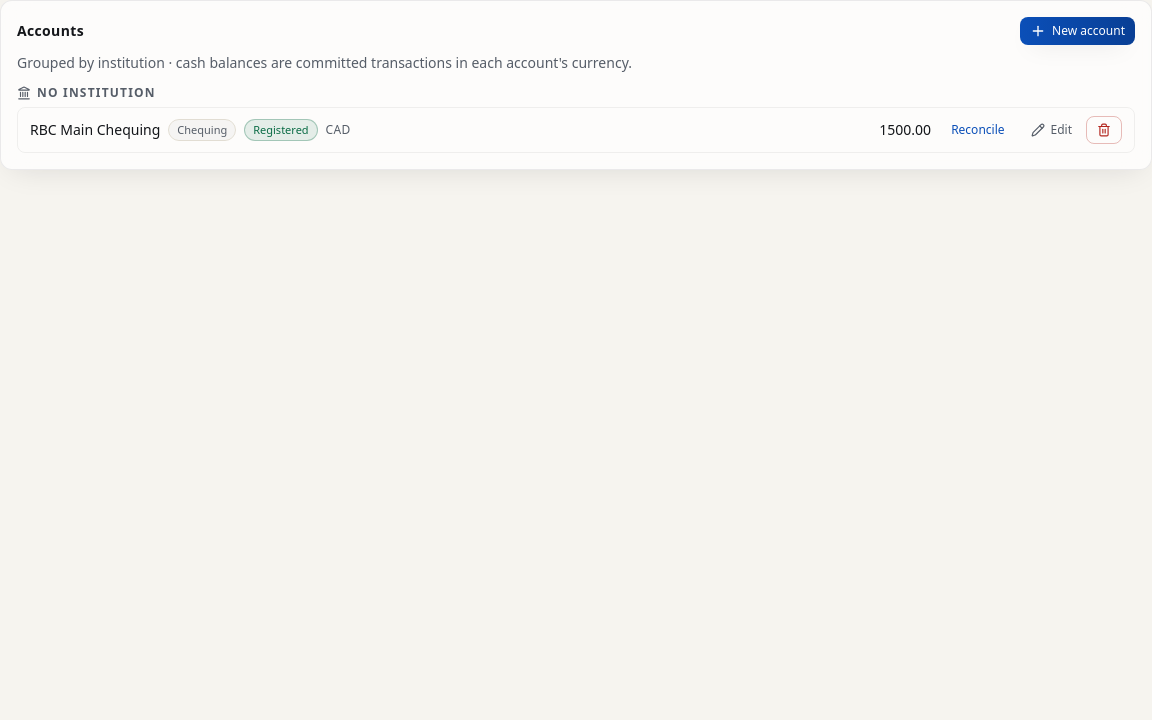
Test: M95 P3 — account delete (blast radius) › lists every dependent with live counts and blocks while anything is attached
Click the button named "Delete RBC Main Chequing" at (1104, 130), box [1086,116,1122,144]
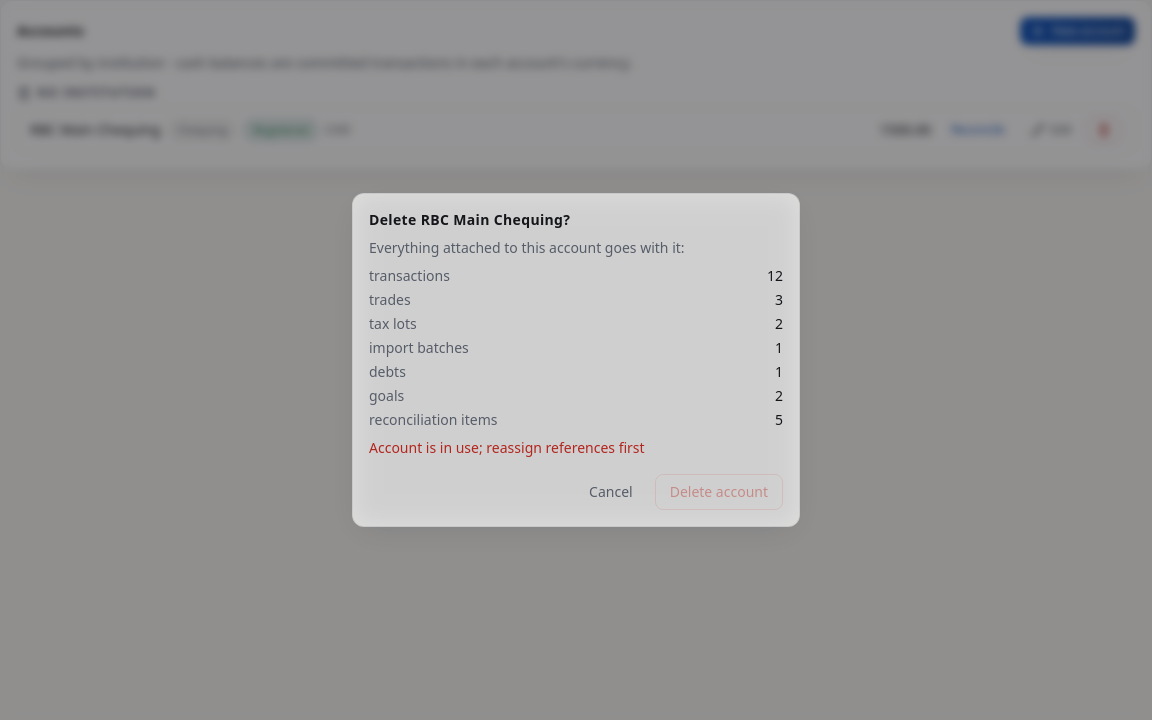
Expected: the list with test id "delete-account-blast" is shown, [369,266,783,430]
Expected: the text with test id "blast-blocked" reads "Account is in use; reassign references first", [369,438,645,457]
Expected: the button with test id "confirm-delete-account" is disabled, [655,474,783,510]
